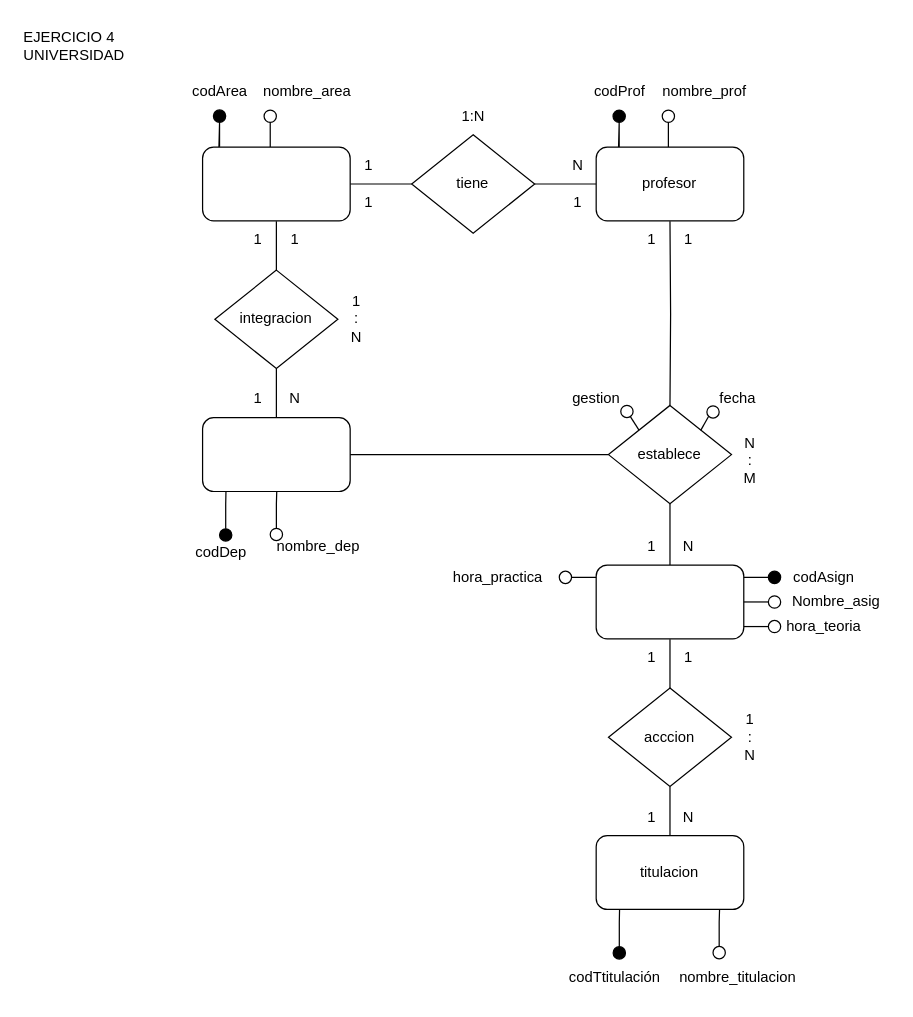
This 913x1017 diagram has some shape labels left out. The centre of each missing label's shape, as x and y in pixels:
"area_de_ conocimiento" belongs at point 275,183.
"asignatura" belongs at point 669,601.
"departamento" belongs at point 275,454.
